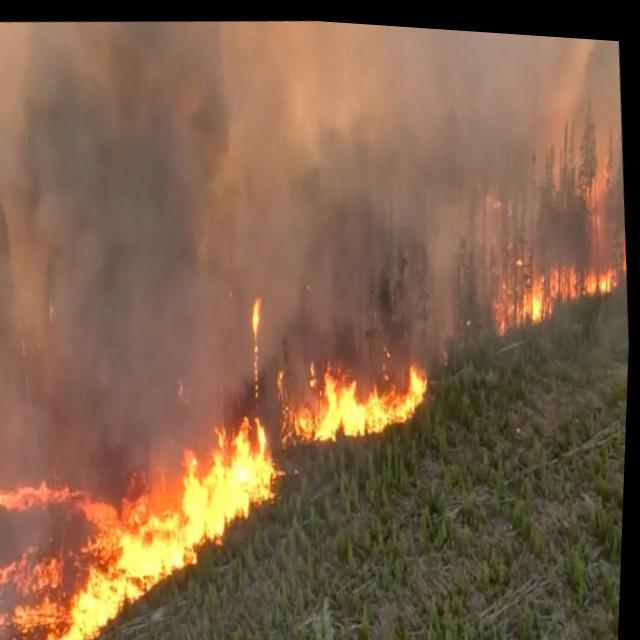Fire: (0, 268, 307, 640), (271, 337, 448, 459), (484, 230, 634, 349)
